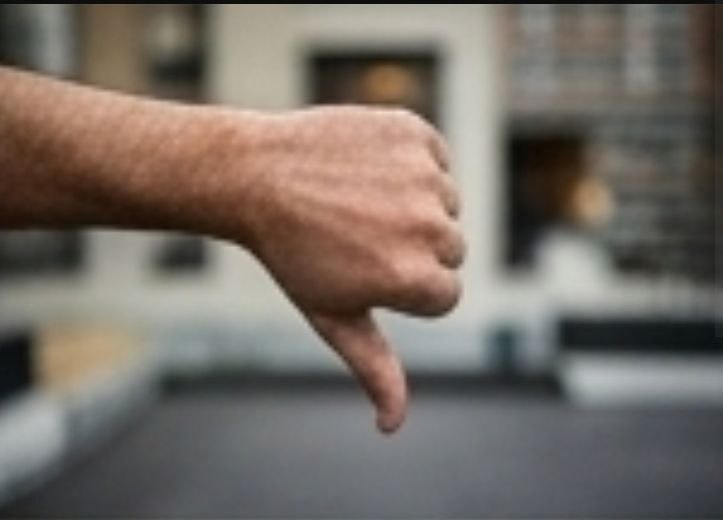Thumbs down: (231, 82, 493, 445)
